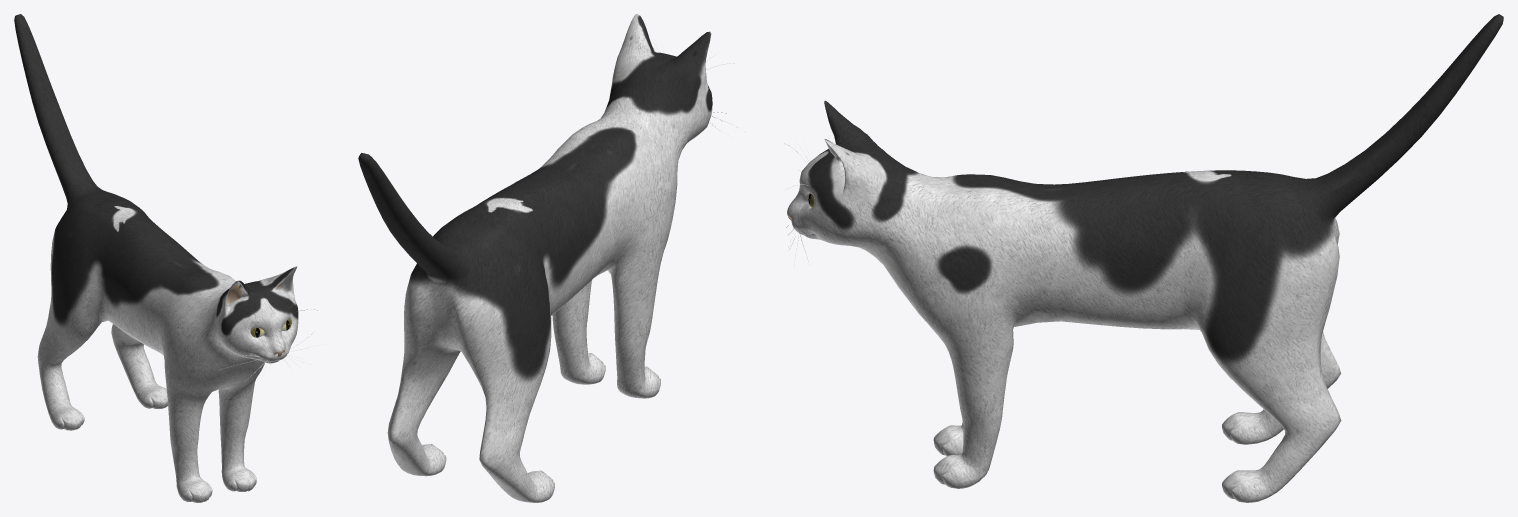
The picture shows the model from 3 angles, left to right: view 1: azimuth 30°, elevation 25°; view 2: azimuth 150°, elevation 25°; view 3: azimuth 270°, elevation 25°; orthographic projection. The views are drawn at different scales.
Visible parts, largest first — view 1: Geode; view 2: Geode; view 3: Geode.
Boxes of the visible parts, <box> form: Geode: <box>14,14,321,502</box>; Geode: <box>358,14,734,502</box>; Geode: <box>783,14,1503,502</box>.
Size of the model in its own units: 4.5 by 12.46 by 18.09.
Materials: 9 (9 with a texture image).
